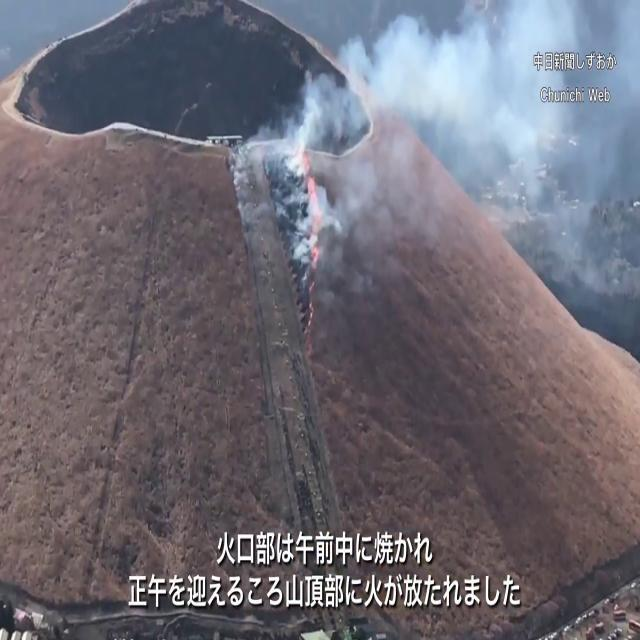Smoke: (239, 2, 631, 278)
